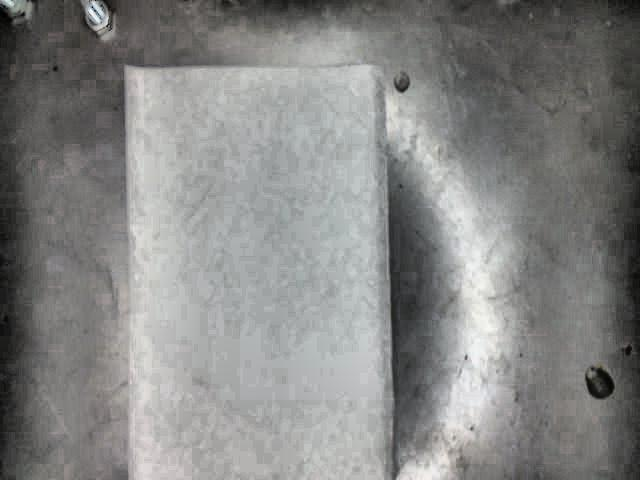Paper: (123, 62, 394, 479)
